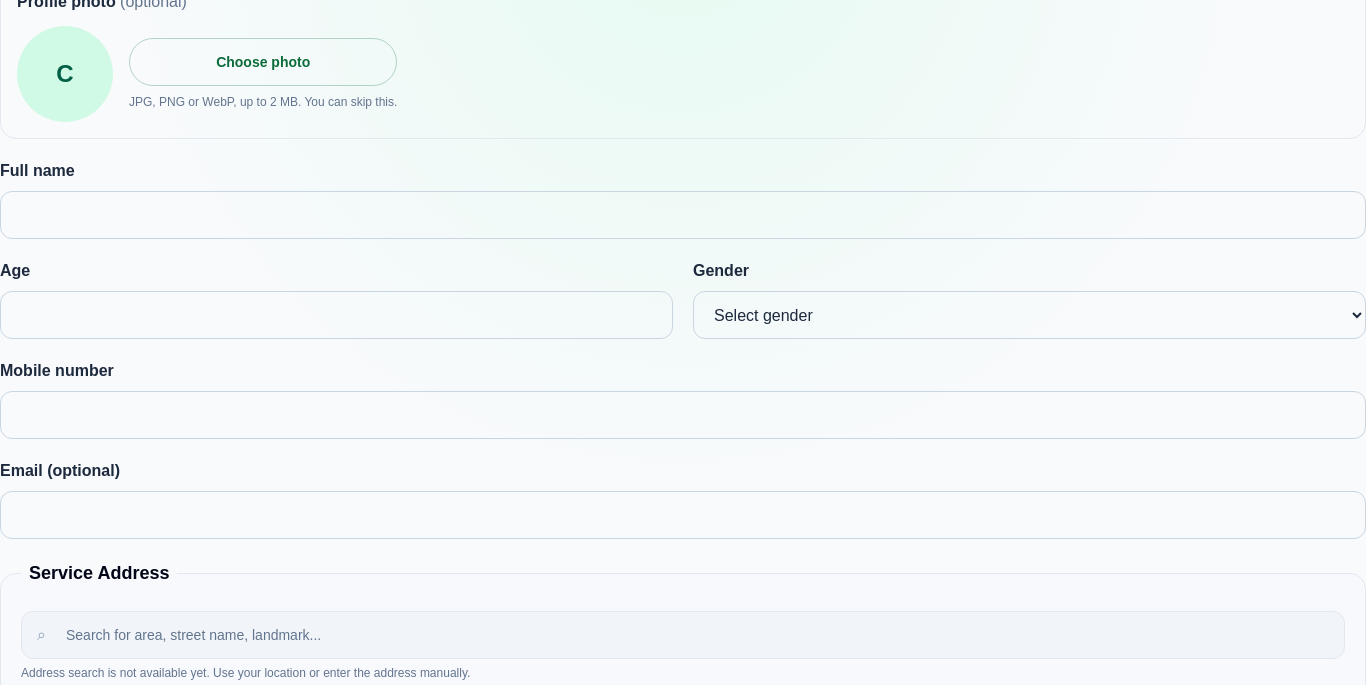
customer registration › allows a valid programmatically populated short house number to continue after confirmation
Type "Asha Sharma" into the field labelled "Full name" at (683,215), box left=0, top=191, right=1365, bottom=239
Type "34" into the number field labelled "Age" at (336,315), box left=0, top=291, right=673, bottom=339
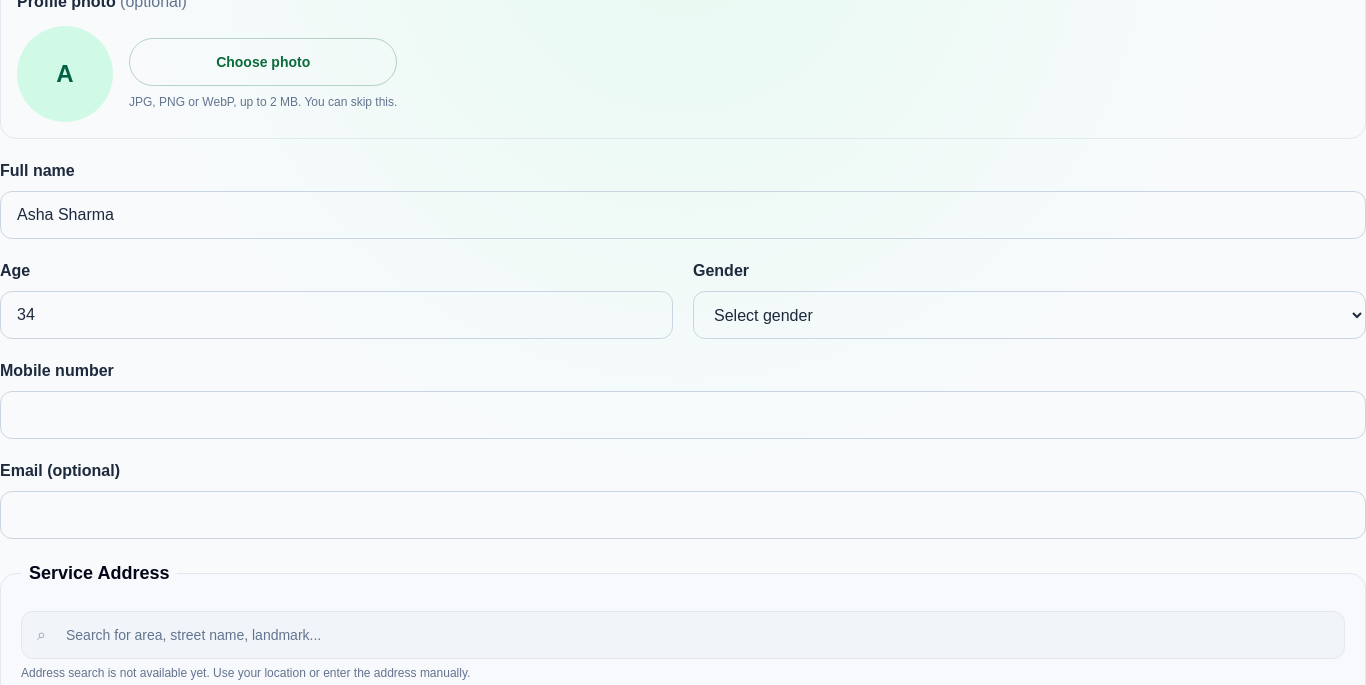
Select "Female" in the dropdown labelled "Gender" at (1030,315), box left=693, top=291, right=1365, bottom=339
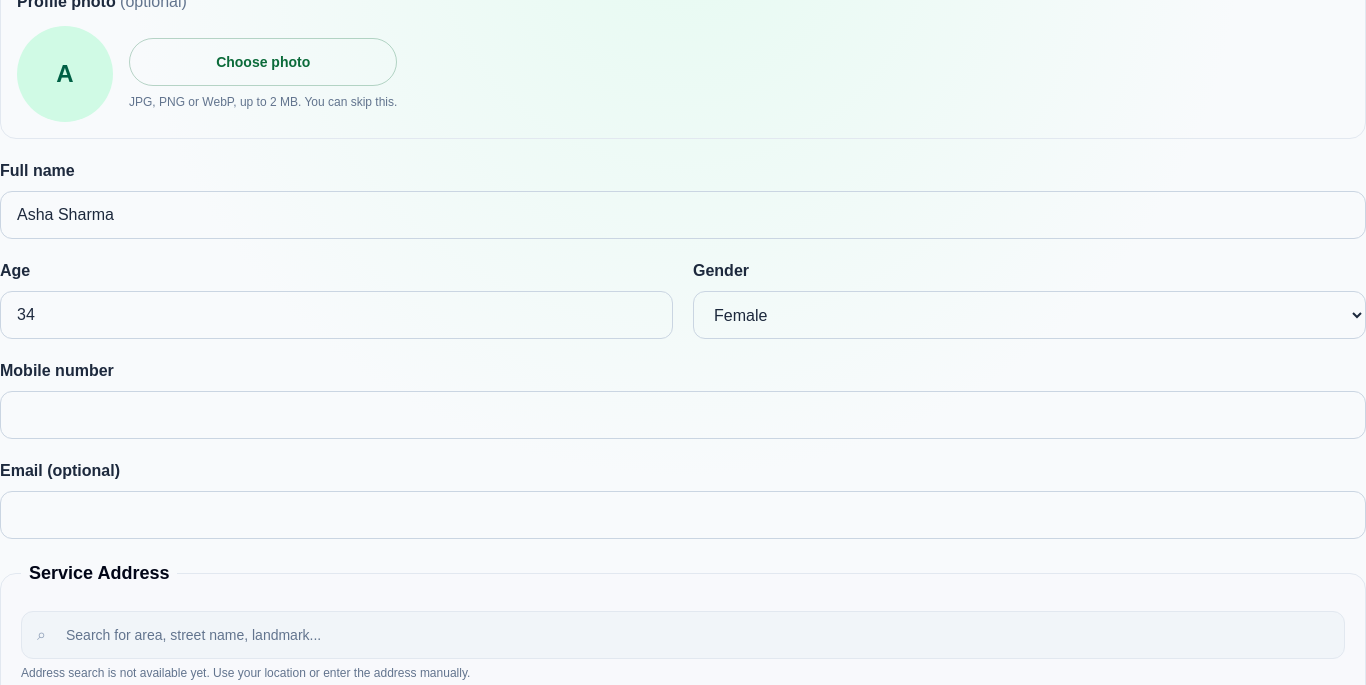
Type "9876543210" into the field labelled "Mobile number" at (683,415), box left=0, top=391, right=1365, bottom=439
(page scrolled)
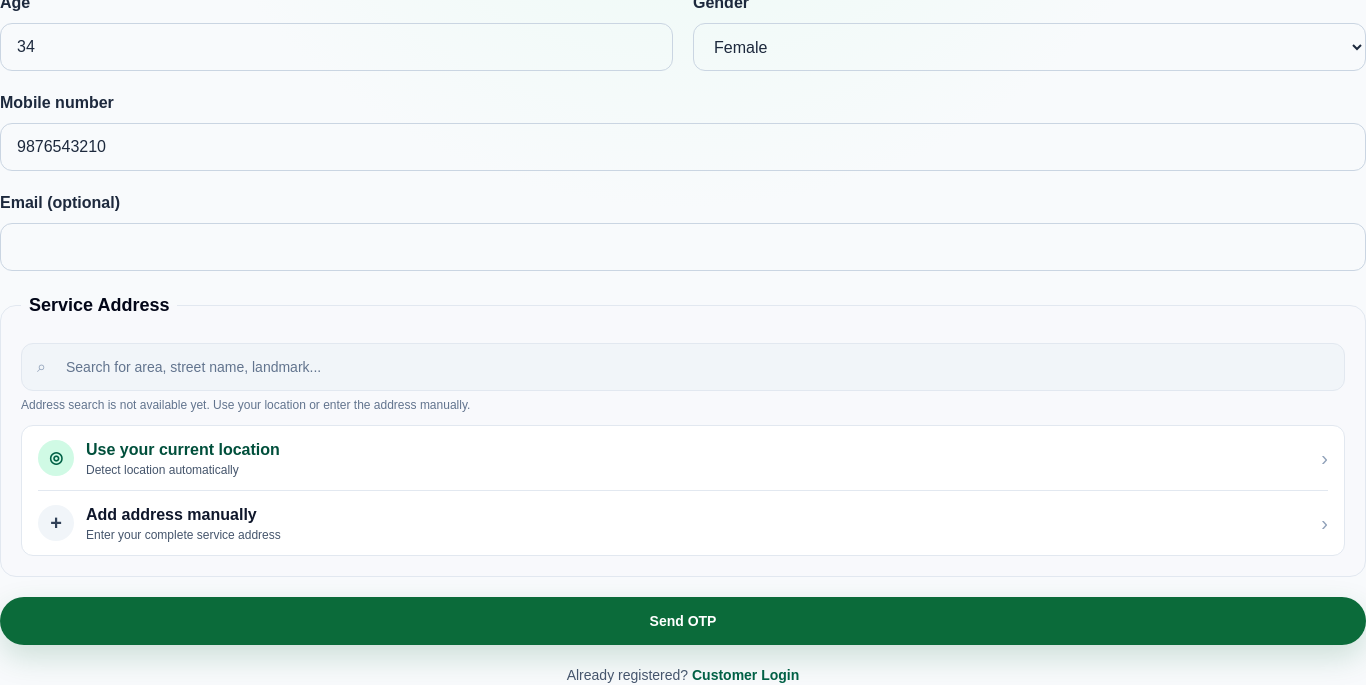
Click the button "Use your current location" at (56,458), box left=22, top=426, right=1344, bottom=490
(page scrolled)
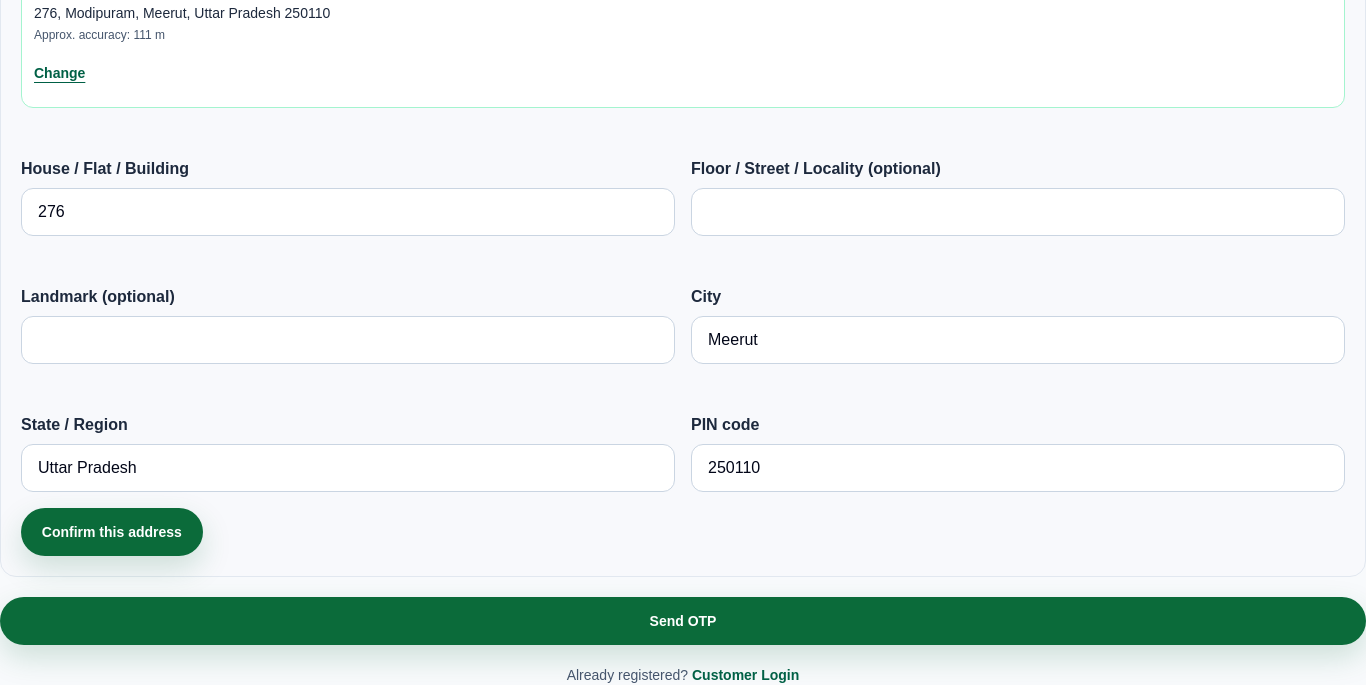
Check: the field showing "276" is shown, box left=21, top=188, right=675, bottom=236
Click the button "Confirm this address" at (112,532), box left=21, top=508, right=203, bottom=556
(page scrolled)
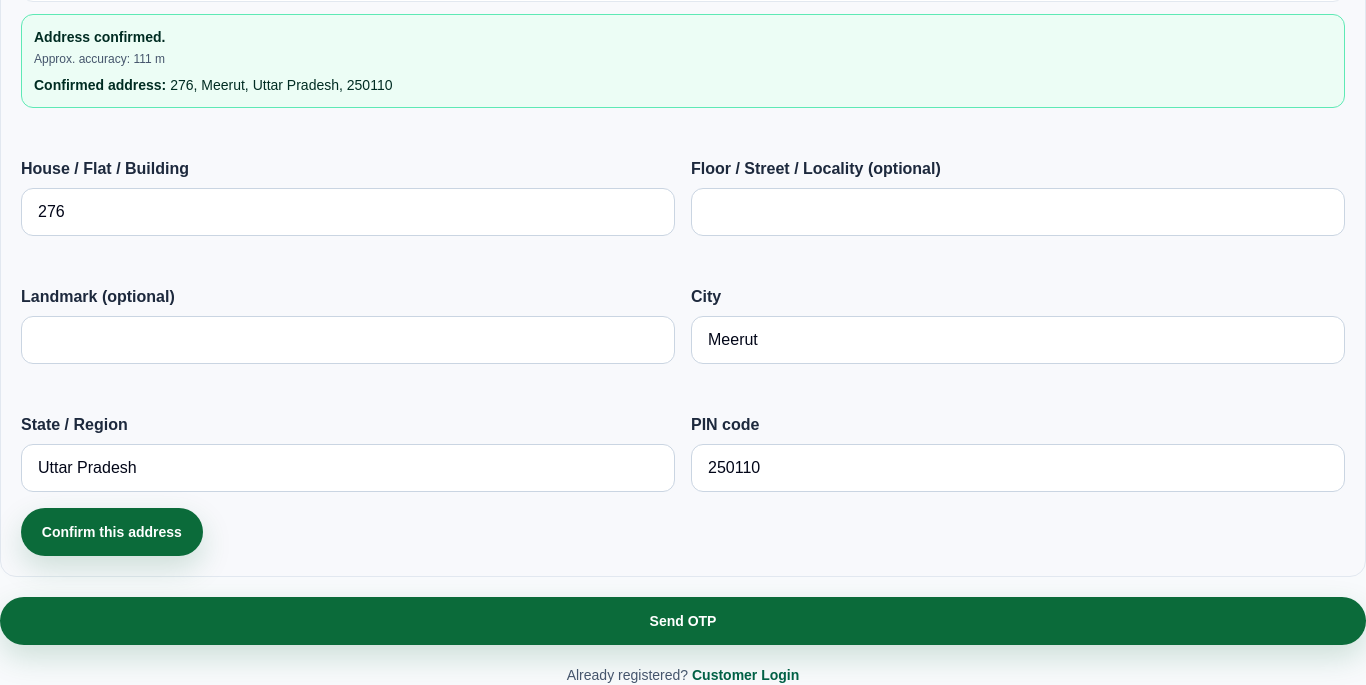
Click the button "Send OTP" at (683,621), box left=0, top=597, right=1365, bottom=645
(page scrolled)
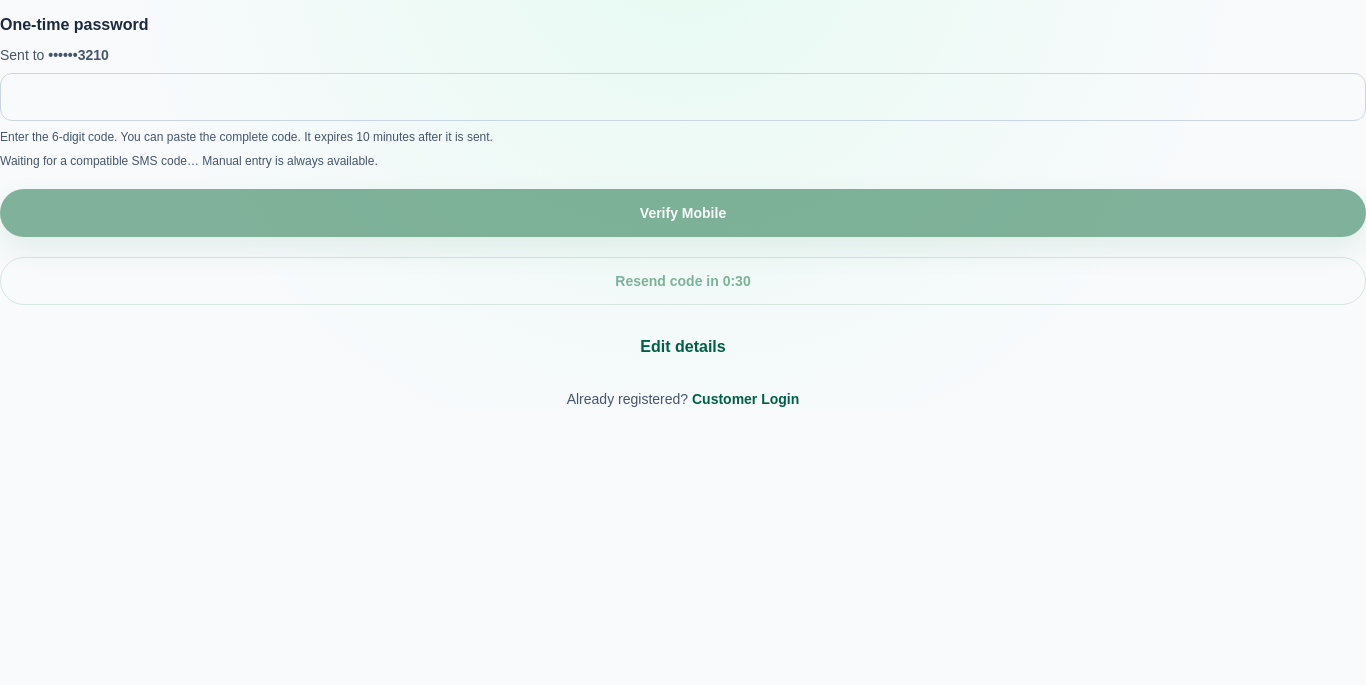
Check: the field labelled "One-time password" is shown, box left=0, top=73, right=1365, bottom=121
